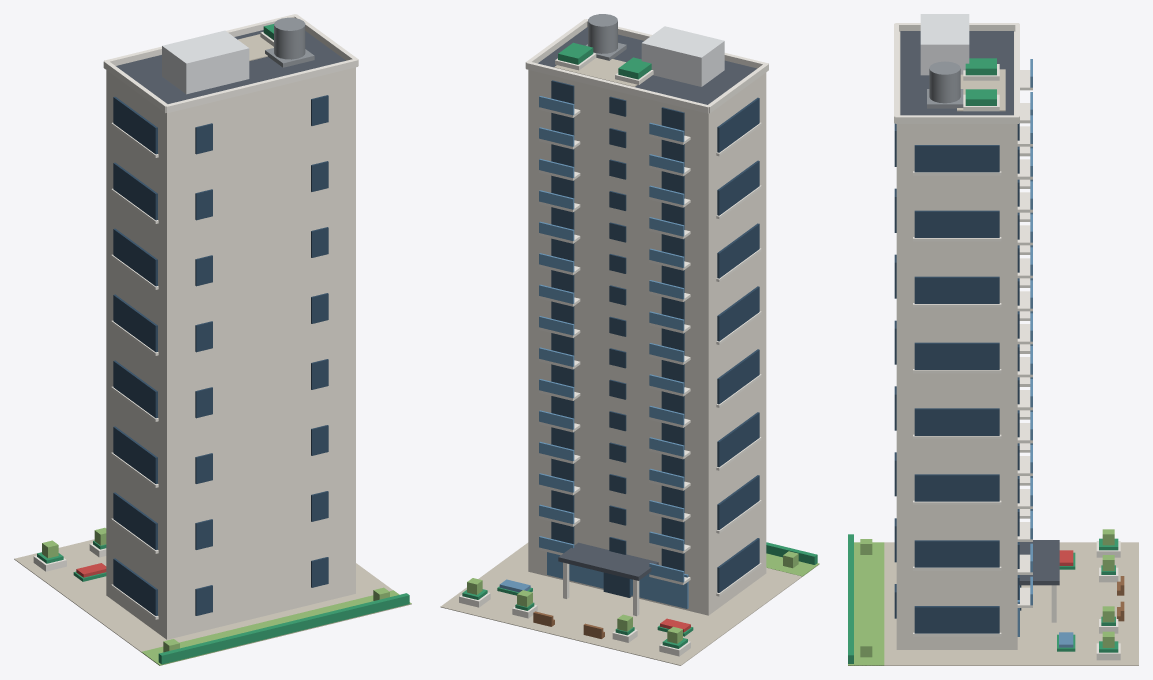
3 renders of one model, left to right at view 1: azimuth 30°, elevation 25°; view 2: azimuth 150°, elevation 25°; view 3: azimuth 270°, elevation 25°, orthographic. The views are drawn at different scales.
Parts seen in each view (by area): view 1: tower, window_band (×8), plaza, plant_room, roof, parapet (×3), hedge, lawn, water_tank; view 2: tower, plaza, window_band (×8), plant_room, parapet (×4), roof, storefront, canopy, water_tank, roof_terrace, door, lawn; view 3: tower, window_band (×8), plaza, roof, lawn, plant_room, parapet (×4), canopy, water_tank, roof_hedge (×2), hedge, roof_terrace.
Boxes of the visible parts, x1=… form: tower: x1=106, y1=67, x2=355, y2=639; window_band (×8): x1=113, y1=96, x2=157, y2=615; plaza: x1=14, y1=539, x2=411, y2=664; plant_room: x1=162, y1=30, x2=249, y2=94; roof: x1=116, y1=30, x2=345, y2=103; parapet (×3): x1=103, y1=14, x2=358, y2=113; hedge: x1=158, y1=593, x2=409, y2=664; lawn: x1=142, y1=590, x2=411, y2=665; water_tank: x1=274, y1=17, x2=305, y2=59; tower: x1=528, y1=70, x2=766, y2=615; plaza: x1=440, y1=542, x2=818, y2=665; window_band (×8): x1=717, y1=97, x2=759, y2=592; plant_room: x1=641, y1=26, x2=724, y2=86; parapet (×4): x1=525, y1=19, x2=768, y2=113; roof: x1=538, y1=27, x2=756, y2=104; storefront: x1=547, y1=552, x2=688, y2=608; canopy: x1=558, y1=542, x2=658, y2=580; water_tank: x1=588, y1=14, x2=617, y2=53; roof_terrace: x1=554, y1=58, x2=637, y2=86; door: x1=603, y1=572, x2=631, y2=597; lawn: x1=766, y1=553, x2=819, y2=576; tower: x1=896, y1=31, x2=1017, y2=649; window_band (×8): x1=914, y1=145, x2=999, y2=633; plaza: x1=849, y1=542, x2=1138, y2=665; roof: x1=900, y1=31, x2=1013, y2=115; lawn: x1=848, y1=542, x2=884, y2=665; plant_room: x1=920, y1=14, x2=969, y2=75; parapet (×4): x1=894, y1=23, x2=1019, y2=123; canopy: x1=1019, y1=540, x2=1059, y2=585; water_tank: x1=929, y1=61, x2=960, y2=103; roof_hedge (×2): x1=965, y1=58, x2=996, y2=105; hedge: x1=848, y1=534, x2=853, y2=663; roof_terrace: x1=957, y1=69, x2=1005, y2=111.
Bounding box in the file's own units: 24 × 51.17 × 24.
